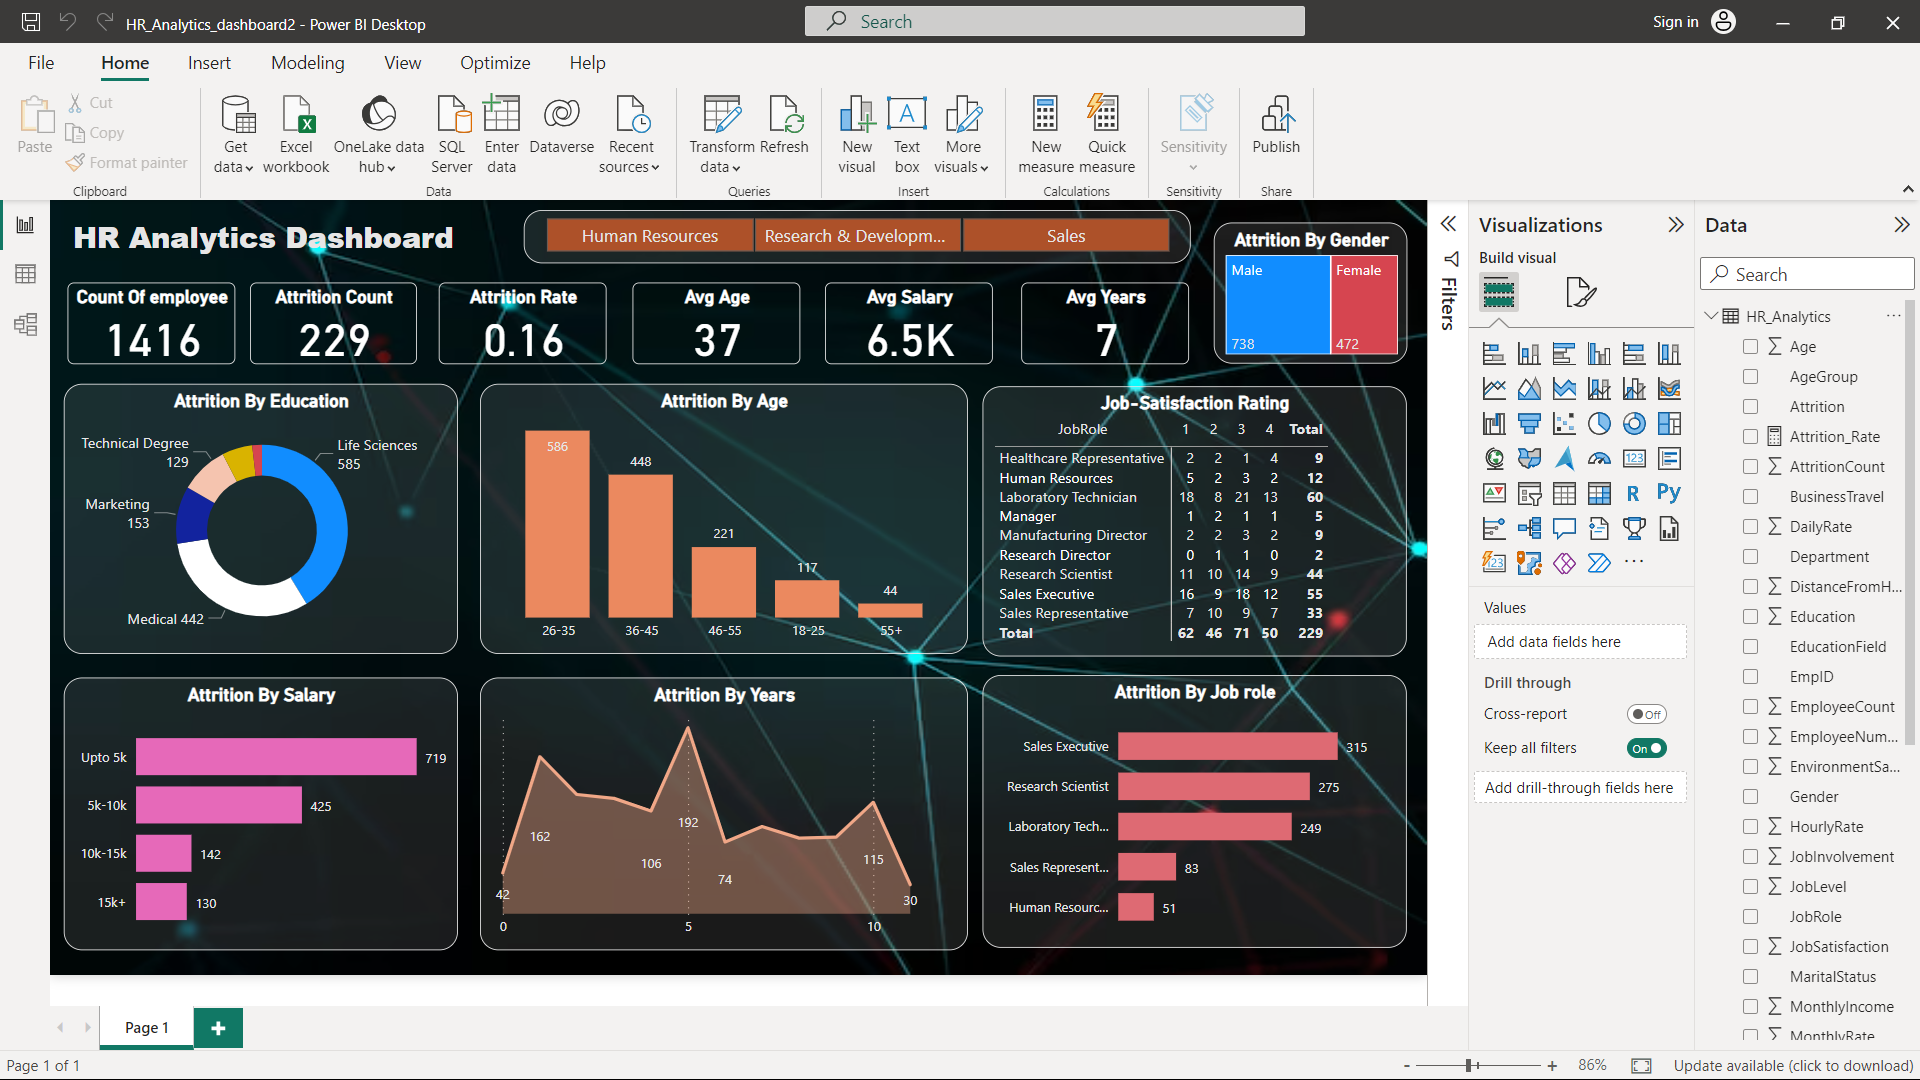

The dashboard page shown, as its layout file describes it:
{"tool":"powerbi","page":{"name":"Page 1","canvas":[1280,720],"ordinal":0},"visuals":[{"type":"card","title":"Count Of employee","fields":{"Values":["CountNonNull(HR_Analytics.EmpID)"]},"box":[16.2,76.2,156.2,76.2],"z":0},{"type":"card","title":"Attrition Count","fields":{"Values":["Sum(HR_Analytics.AttritionCount)"]},"box":[186.2,76.2,155,76.2],"z":1000},{"type":"card","title":"Attrition Rate","fields":{"Values":["HR_Analytics.Attrition_Rate"]},"box":[361.2,76.2,156.2,76.2],"z":2000},{"type":"card","title":"Avg Age","fields":{"Values":["Avg(HR_Analytics.Age)"]},"box":[541.2,76.2,156.2,76.2],"z":3000},{"type":"card","title":"Avg Salary","fields":{"Values":["Avg(HR_Analytics.MonthlyIncome)"]},"box":[720,76.2,156.2,76.2],"z":4000},{"type":"card","title":"Avg Years","fields":{"Values":["Avg(HR_Analytics.YearsAtCompany)"]},"box":[902.5,76.2,156.2,76.2],"z":5000},{"type":"donutChart","title":"Attrition By Education","fields":{"Category":["HR_Analytics.EducationField"],"Y":["CountNonNull(HR_Analytics.Attrition)"]},"box":[12.3,170.8,366.1,251.2],"z":6000},{"type":"columnChart","title":"Attrition By Age","fields":{"Y":["CountNonNull(HR_Analytics.Attrition)"],"Category":["HR_Analytics.AgeGroup"]},"box":[399.6,170.8,453.2,251.2],"z":7000},{"type":"pivotTable","title":"Job-Satisfaction Rating","fields":{"Columns":["HR_Analytics.JobSatisfaction"],"Rows":["HR_Analytics.JobRole"],"Values":["Sum(HR_Analytics.AttritionCount)"]},"box":[867.3,173,394,251.2],"z":8000},{"type":"barChart","title":"Attrition By Salary","fields":{"Category":["HR_Analytics.SalarySlab"],"Y":["CountNonNull(HR_Analytics.Attrition)"]},"box":[12.5,443.8,366.2,253.8],"z":9000},{"type":"barChart","title":"Attrition By Job role","fields":{"Category":["HR_Analytics.JobRole"],"Y":["CountNonNull(HR_Analytics.Attrition)"]},"box":[867.3,442,394,253.4],"z":10000},{"type":"stackedAreaChart","title":"Attrition By Years","fields":{"Category":["HR_Analytics.YearsAtCompany"],"Y":["CountNonNull(HR_Analytics.Attrition)"]},"box":[399.6,444.3,453.2,253.4],"z":11000},{"type":"treemap","title":"Attrition By Gender","fields":{"Group":["HR_Analytics.Gender"],"Values":["CountNonNull(HR_Analytics.Attrition)"]},"box":[1081.4,21.4,180,131.4],"z":12000},{"type":"textbox","box":[16.2,10,401.2,50],"z":13000},{"type":"slicer","fields":{"Values":["HR_Analytics.Department"]},"box":[439.9,9.5,620.1,49.8],"z":14000}]}

Visuals, with their boxes on the page's 1280x720 design canvas (x1, y1, x2, y2). These are canvas units, not pixel positions in the 1920x1080 screenshot, which may show the page scaled, cropped or inside an application window:
"Count Of employee" card: (16,76,172,152)
"Attrition Count" card: (186,76,341,152)
"Attrition Rate" card: (361,76,517,152)
"Avg Age" card: (541,76,697,152)
"Avg Salary" card: (720,76,876,152)
"Avg Years" card: (902,76,1059,152)
"Attrition By Education" donutChart: (12,171,378,422)
"Attrition By Age" columnChart: (400,171,853,422)
"Job-Satisfaction Rating" pivotTable: (867,173,1261,424)
"Attrition By Salary" barChart: (12,444,379,698)
"Attrition By Job role" barChart: (867,442,1261,695)
"Attrition By Years" stackedAreaChart: (400,444,853,698)
"Attrition By Gender" treemap: (1081,21,1261,153)
textbox: (16,10,417,60)
slicer - HR_Analytics.Department: (440,10,1060,59)
